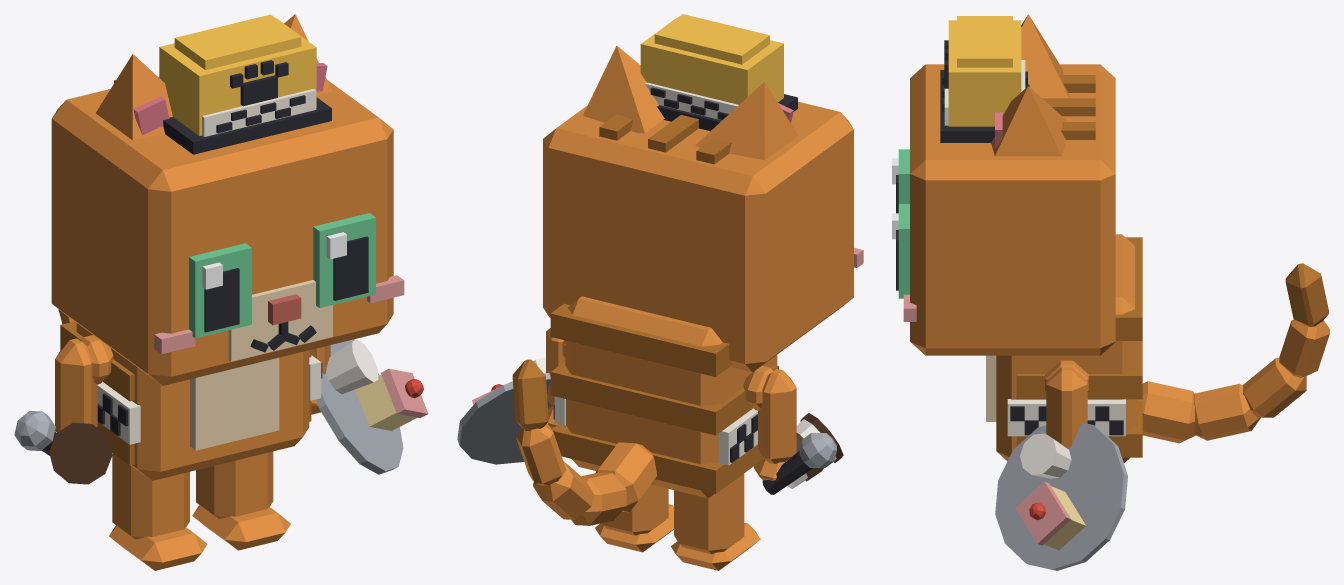
Rendered from CatCafe_Cat_Taxi_Work.glb.
The picture shows the model from 3 angles, left to right: view 1: azimuth 30°, elevation 25°; view 2: azimuth 150°, elevation 25°; view 3: azimuth 270°, elevation 25°; orthographic projection. The views are drawn at different scales.
Parts seen in each view (by area): view 1: CatCafe_Cat_Taxi_Work_Head, CatCafe_Cat_Taxi_Work_Body, CatCafe_Cat_Taxi_Work_Glow, CatCafe_Cat_Taxi_Work_Held_Waiter, CatCafe_Cat_Taxi_Work_LegB2, CatCafe_Cat_Taxi_Work_Prop, CatCafe_Cat_Taxi_Work_LegB1, CatCafe_Cat_Taxi_Work_Eye2, CatCafe_Cat_Taxi_Work_Eye1, CatCafe_Cat_Taxi_Work_EarR, CatCafe_Cat_Taxi_Work_LegF2, CatCafe_Cat_Taxi_Work_Held_Barista (+2 smaller); view 2: CatCafe_Cat_Taxi_Work_Head, CatCafe_Cat_Taxi_Work_Body, CatCafe_Cat_Taxi_Work_Tail, CatCafe_Cat_Taxi_Work_Glow, CatCafe_Cat_Taxi_Work_LegB2, CatCafe_Cat_Taxi_Work_Held_Waiter, CatCafe_Cat_Taxi_Work_EarR, CatCafe_Cat_Taxi_Work_EarL, CatCafe_Cat_Taxi_Work_LegF2, CatCafe_Cat_Taxi_Work_LegB1, CatCafe_Cat_Taxi_Work_Prop, CatCafe_Cat_Taxi_Work_Held_Entertainer (+2 smaller); view 3: CatCafe_Cat_Taxi_Work_Head, CatCafe_Cat_Taxi_Work_Held_Waiter, CatCafe_Cat_Taxi_Work_Body, CatCafe_Cat_Taxi_Work_Tail, CatCafe_Cat_Taxi_Work_Glow, CatCafe_Cat_Taxi_Work_EarL, CatCafe_Cat_Taxi_Work_LegF1, CatCafe_Cat_Taxi_Work_EarR, CatCafe_Cat_Taxi_Work_Prop, CatCafe_Cat_Taxi_Work_Eye1, CatCafe_Cat_Taxi_Work_Eye2.
Part boxes in pixels (x1,y1,x2,y2): CatCafe_Cat_Taxi_Work_Head: (51, 77, 404, 385); CatCafe_Cat_Taxi_Work_Body: (60, 321, 322, 480); CatCafe_Cat_Taxi_Work_Glow: (159, 14, 316, 135); CatCafe_Cat_Taxi_Work_Held_Waiter: (315, 339, 428, 474); CatCafe_Cat_Taxi_Work_LegB2: (109, 453, 207, 570); CatCafe_Cat_Taxi_Work_Prop: (163, 60, 331, 154); CatCafe_Cat_Taxi_Work_LegB1: (192, 451, 290, 550); CatCafe_Cat_Taxi_Work_Eye2: (189, 243, 251, 338); CatCafe_Cat_Taxi_Work_Eye1: (313, 213, 375, 307); CatCafe_Cat_Taxi_Work_EarR: (96, 54, 172, 140); CatCafe_Cat_Taxi_Work_LegF2: (55, 338, 97, 432); CatCafe_Cat_Taxi_Work_Held_Barista: (49, 422, 112, 484); CatCafe_Cat_Taxi_Work_Head: (543, 101, 863, 372); CatCafe_Cat_Taxi_Work_Body: (550, 296, 778, 498); CatCafe_Cat_Taxi_Work_Tail: (512, 359, 656, 525); CatCafe_Cat_Taxi_Work_Glow: (640, 14, 783, 104); CatCafe_Cat_Taxi_Work_LegB2: (671, 473, 760, 570); CatCafe_Cat_Taxi_Work_Held_Waiter: (457, 357, 551, 464); CatCafe_Cat_Taxi_Work_EarR: (695, 82, 798, 160); CatCafe_Cat_Taxi_Work_EarL: (583, 45, 664, 133); CatCafe_Cat_Taxi_Work_LegF2: (754, 369, 796, 480); CatCafe_Cat_Taxi_Work_LegB1: (595, 484, 673, 552); CatCafe_Cat_Taxi_Work_Prop: (645, 82, 797, 131); CatCafe_Cat_Taxi_Work_Held_Entertainer: (762, 433, 836, 494); CatCafe_Cat_Taxi_Work_Head: (903, 64, 1115, 355); CatCafe_Cat_Taxi_Work_Held_Waiter: (995, 422, 1127, 570); CatCafe_Cat_Taxi_Work_Body: (986, 234, 1142, 463); CatCafe_Cat_Taxi_Work_Tail: (1137, 263, 1329, 443); CatCafe_Cat_Taxi_Work_Glow: (948, 16, 1021, 126); CatCafe_Cat_Taxi_Work_EarL: (991, 86, 1067, 156); CatCafe_Cat_Taxi_Work_LegF1: (1046, 367, 1087, 448); CatCafe_Cat_Taxi_Work_EarR: (1021, 14, 1069, 98); CatCafe_Cat_Taxi_Work_Prop: (940, 40, 1029, 142); CatCafe_Cat_Taxi_Work_Eye1: (892, 204, 909, 298); CatCafe_Cat_Taxi_Work_Eye2: (892, 149, 909, 213).
Bounding box in the file's own units: 1.53 × 1.98 × 1.62.
Materials: 1 (1 with a texture image).
